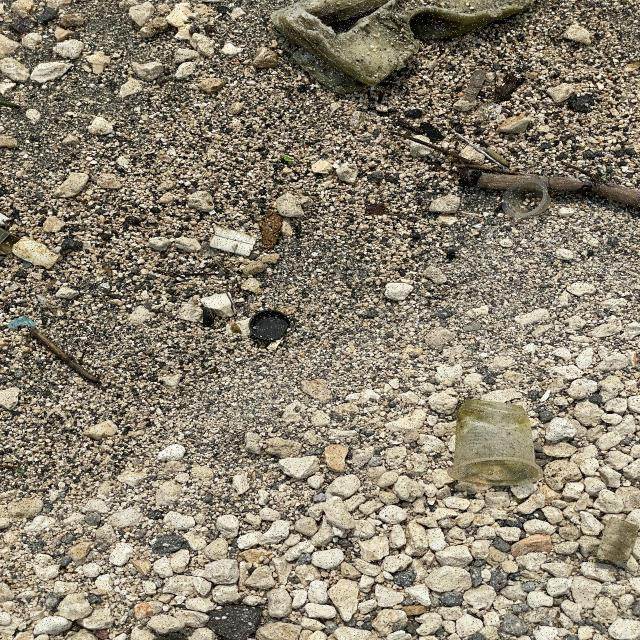plastic_waste: (451, 394, 544, 491)
